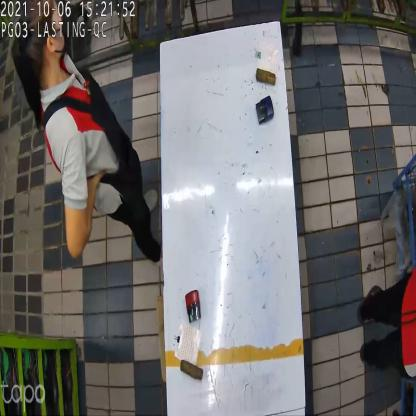stamp: (184, 292, 203, 326), (256, 95, 274, 128)
